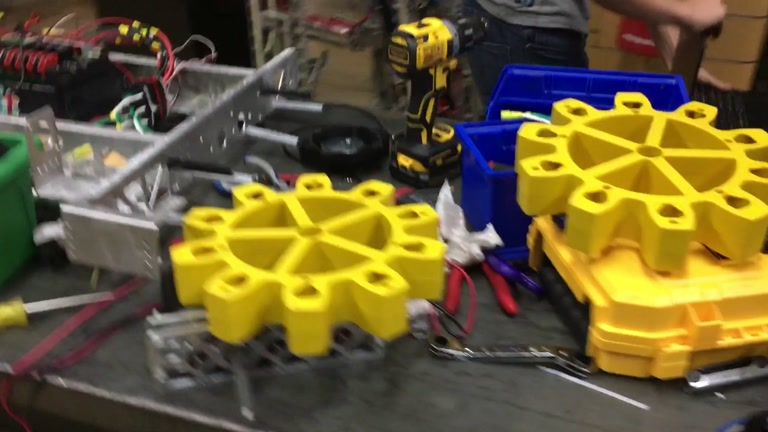gear: (167, 171, 448, 357), (514, 91, 767, 276)
